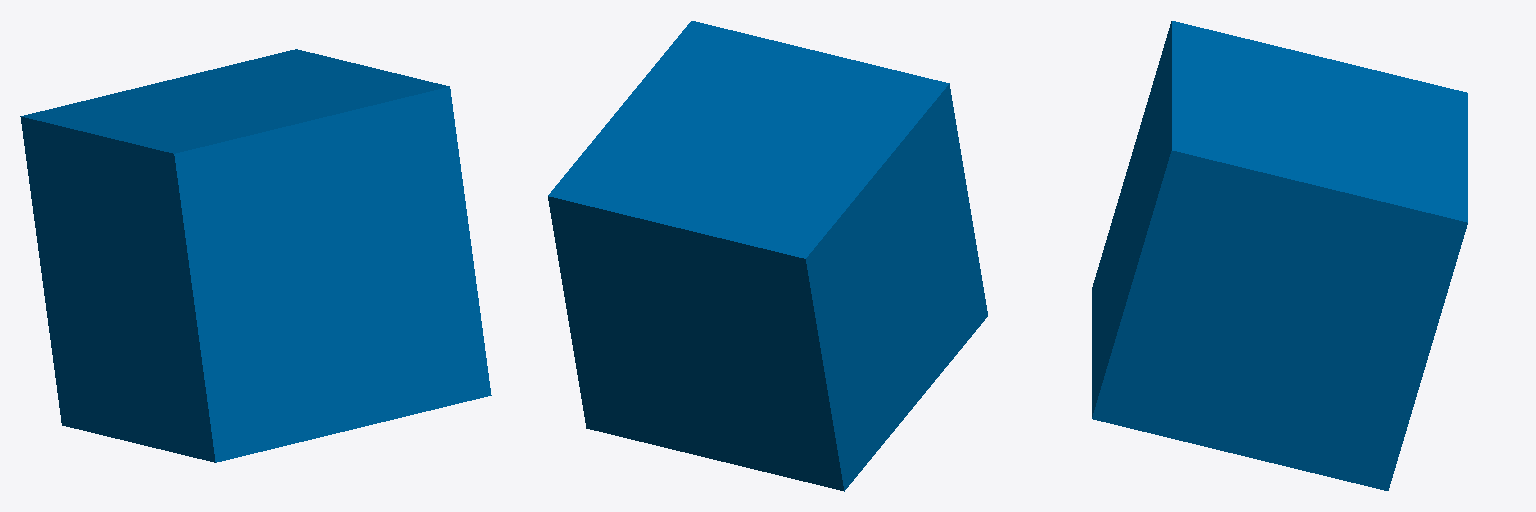
robot.urdf — jibo:
<robot name="jibo">

    <gazebo>
        <plugin name="gazebo_ros_control" filename="libgazebo_ros_control.so">
        </plugin>
    </gazebo>
	<!-- * * * Link Definitions * * * -->
    <link name="base_link">
 	    <inertial>
            <origin xyz="0 0 0" rpy="0 0 0"/>
            <mass value="2.0" />
            <inertia ixx="0.003224" ixy="0.0" ixz="0.0" iyy="0.003224" iyz="0.0" izz="0.0064"/>
        </inertial>
        <collision>
            <origin xyz="0 0 -0.006" rpy="0 0 0"/>
            <geometry>
                <cylinder radius="0.08" length="0.012"/>
            </geometry>
        </collision>
        <visual>
            <origin rpy="0.0 0 0" xyz="0 0 0"/>
            <geometry>
                <mesh filename="package://jibo_description/models/jibo/meshes/jibo_final_parts_base_v3.dae"/>
            </geometry>
        </visual>
	</link>

    <gazebo reference="base_link">
        <kp>1000000.0</kp>
        <kd>0.0</kd>
        <mu1>10.0</mu1>
        <mu2>10.0</mu2>
    </gazebo>

    <link name="waist_link">
 	    <inertial>
            <origin xyz="0 0 0" rpy="0 0 0"/>
            <mass value="0.5" />
            <inertia ixx="0.0011625" ixy="0.0" ixz="0.0" iyy="0.0011625" iyz="0.0" izz="0.002025"/>
        </inertial>
        <collision>
            <origin xyz="0 0 0.03" rpy="0 0 0"/>
            <geometry>
                <cylinder radius="0.09" length="0.06"/>
            </geometry>
        </collision>
		<visual>
            <origin rpy="0.0 0 0" xyz="0 0 0"/>
            <geometry>
                <mesh filename="package://jibo_description/models/jibo/meshes/jibo_final_parts_waist_v3.dae"/>
            </geometry>
        </visual>
	</link>

    <joint name="base_waist_joint" type="continuous">
    	<parent link="base_link"/>
    	<child link="waist_link"/>
    	<origin xyz="0 0 0" rpy="0 0 0"/>
        <limit effort="1.0" velocity="1.0"/>
        <axis xyz="0 0 1"/>
	</joint>

    <transmission name="tran1">
        <type>transmission_interface/SimpleTransmission</type>
        <joint name="base_waist_joint">
            <hardwareInterface>EffortJointInterface</hardwareInterface>
        </joint>
        <actuator name="motor1">
            <hardwareInterface>EffortJointInterface</hardwareInterface>
            <mechanicalReduction>1</mechanicalReduction>
        </actuator>
    </transmission>


    <link name="body_link">
 	    <inertial>
            <origin xyz="0 0 0" rpy="0 0 0"/>
            <mass value="0.5" />
            <inertia ixx="0.00166354166667" ixy="0.0" ixz="0.0" iyy="0.00166354166667" iyz="0.0" izz="0.002025"/>
        </inertial>
        <collision>
            <origin xyz="0 0 0.06" rpy="0 0 0"/>
            <geometry>
                <cylinder radius="0.09" length="0.125"/>
            </geometry>
        </collision>
		<visual>
            <origin rpy="0.0 0 0" xyz="0 0 0"/>
            <geometry>
                <mesh filename="package://jibo_description/models/jibo/meshes/jibo_final_parts_body_v3.dae"/>
            </geometry>
        </visual>
	</link>

    <joint name="waist_body_joint" type="continuous">
    	<parent link="waist_link"/>
    	<child link="body_link"/>
    	<origin xyz="0 0.006 0.052" rpy="-0.263 0 0"/>
        <limit effort="1.0" velocity="1.0"/>
        <axis xyz="0 0 1"/>
	</joint>

    <transmission name="tran2">
        <type>transmission_interface/SimpleTransmission</type>
        <joint name="waist_body_joint">
            <hardwareInterface>EffortJointInterface</hardwareInterface>
        </joint>
        <actuator name="motor2">
            <hardwareInterface>EffortJointInterface</hardwareInterface>
            <mechanicalReduction>1</mechanicalReduction>
        </actuator>
    </transmission>

    <link name="head_link">
 	    <inertial>
            <origin xyz="0 0 0" rpy="0 0 0"/>
            <mass value="0.1" />
            <inertia ixx="0.000625" ixy="0.0" ixz="0.0" iyy="0.000625" iyz="0.0" izz="0.000625"/>
        </inertial>
        <collision>
            <origin xyz="0 0 0" rpy="0 0 0"/>
            <geometry>
                <sphere radius="0.11"/>
            </geometry>
        </collision>
		<visual>
            <origin rpy="0.0 0 0" xyz="0 0 0"/>
            <geometry>
                <mesh filename="package://jibo_description/models/jibo/meshes/jibo_final_parts_head_v5.dae"/>
            </geometry>
        </visual>
	</link>

    <joint name="body_head_joint" type="continuous">
    	<parent link="body_link"/>
    	<child link="head_link"/>
    	<origin xyz="0 0.0 0.19" rpy="-0.4 0 0"/>
        <limit effort="1.0" velocity="1.0"/>
        <axis xyz="0 0 1"/>
	</joint>

    <transmission name="tran3">
        <type>transmission_interface/SimpleTransmission</type>
        <joint name="body_head_joint">
            <hardwareInterface>EffortJointInterface</hardwareInterface>
        </joint>
        <actuator name="motor3">
            <hardwareInterface>EffortJointInterface</hardwareInterface>
            <mechanicalReduction>1</mechanicalReduction>
        </actuator>
    </transmission>



    <link name="camera_link">
        <!-- Inertial for gazebo to take it into account, Put 1gr weight -->
        <inertial>
            <origin xyz="0 0 0" rpy="0 0 0"/>
            <mass value="0.001" />
            <inertia ixx="9.1875e-09" ixy="0.0" ixz="0.0" iyy="9.1875e-09" iyz="0.0" izz="1.378125e-08"/>
        </inertial>
		<visual>
            <origin rpy="0.0 0 0" xyz="0 0 0"/>
            <geometry>
                <box size="0.0005 0.0005 0.0005"/>
            </geometry>
            <material name="green"/>
        </visual>
	</link>

    <gazebo reference="camera_link">
        <material>Gazebo/Green</material>
    </gazebo>

    <joint name="head_camera_joint" type="fixed">
        <parent link="head_link"/>
        <child link="camera_link"/>
        <origin xyz="0 0.013 0.1" rpy="0.4 0 0"/>
    </joint>


    <!-- camera -->
  <gazebo reference="camera_link">
    <sensor type="camera" name="camera1">
      <update_rate>10.0</update_rate>
      <camera name="head">

          <pose>0 0 0 0 0 1.57</pose>

        <horizontal_fov>1.3962634</horizontal_fov>
        <image>
          <width>400</width>
          <height>400</height>
          <format>R8G8B8</format>
        </image>
        <clip>
          <near>0.01</near>
          <far>100</far>
        </clip>
        <noise>
          <type>gaussian</type>
          <stddev>0.007</stddev>
        </noise>
      </camera>
      <plugin name="camera_controller" filename="libgazebo_ros_camera.so">
        <alwaysOn>true</alwaysOn>
        <updateRate>0.0</updateRate>
        <cameraName>jibo/camera1</cameraName>
        <imageTopicName>image_raw</imageTopicName>
        <cameraInfoTopicName>camera_info</cameraInfoTopicName>
        <frameName>camera_link</frameName>
        <hackBaseline>0.07</hackBaseline>
        <distortionK1>0.0</distortionK1>
        <distortionK2>0.0</distortionK2>
        <distortionK3>0.0</distortionK3>
        <distortionT1>0.0</distortionT1>
        <distortionT2>0.0</distortionT2>
      </plugin>
    </sensor>
  </gazebo>


</robot>

--- Facts derived from the render (not from the file) ---
The picture shows the robot from 3 angles, left to right: view 1: azimuth 30°, elevation 25°; view 2: azimuth 150°, elevation 25°; view 3: azimuth 270°, elevation 25°; orthographic projection.
Robot: jibo — 5 links, 4 joints (3 continuous, 1 fixed); root link base_link; default pose: all joints at 0.
Visible links, largest first — view 1: camera_link; view 2: camera_link; view 3: camera_link.
Link boxes in pixels (bbox=[...]): camera_link: bbox=[20, 49, 491, 462]; camera_link: bbox=[548, 21, 987, 491]; camera_link: bbox=[1092, 21, 1467, 490].
Bounding box of the posed robot: 0.0005 × 0.0006 × 0.0006 m (x, y, z).
Meshes: 4 distinct files referenced, 0 mesh visuals loaded (none loaded); not drawn: 4 (reference not matched to a file when rendering).